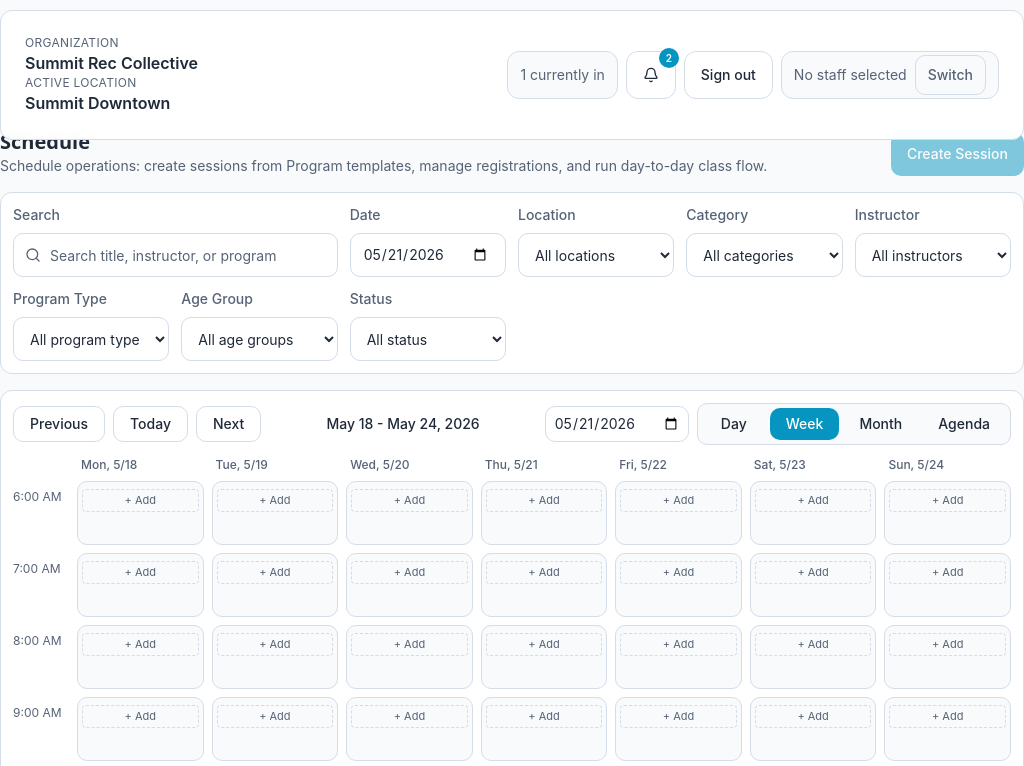
it: Calendar interactive workstation › prefills session instructor from program default and allows override
Click the button "Switch" at (950, 75), box [915,55,986,95]
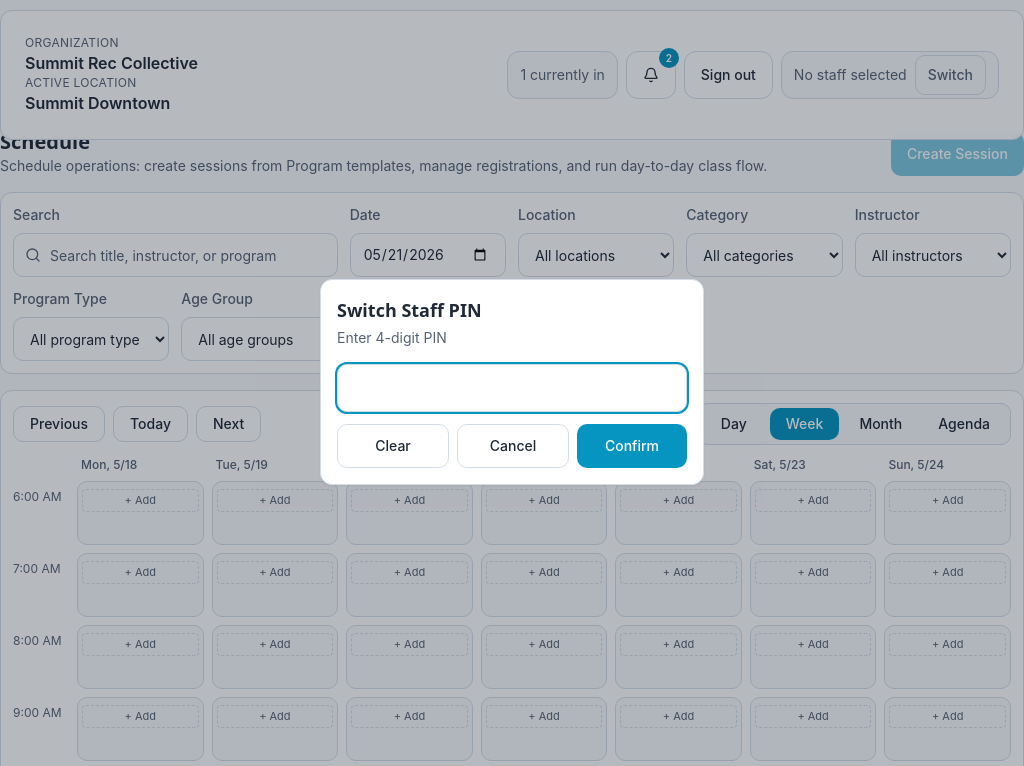
Type "2222" into the password field named "Staff PIN input" at (512, 388), box [337,364,687,412]
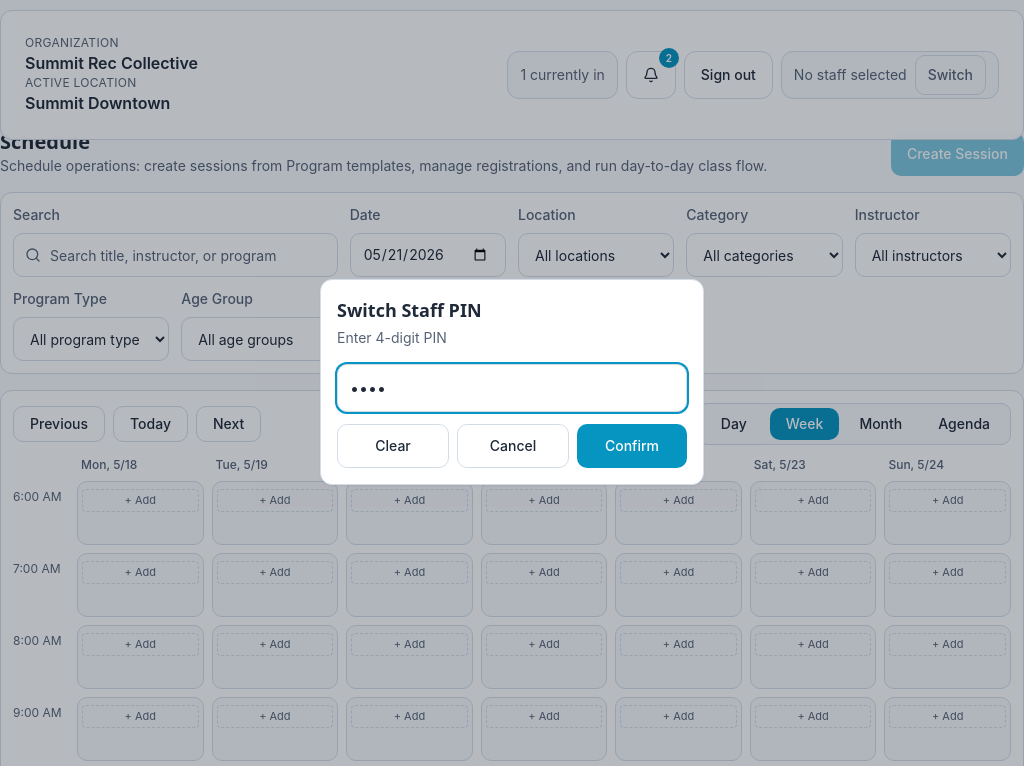
Click the button "Confirm" at (632, 446), box [577,424,687,468]
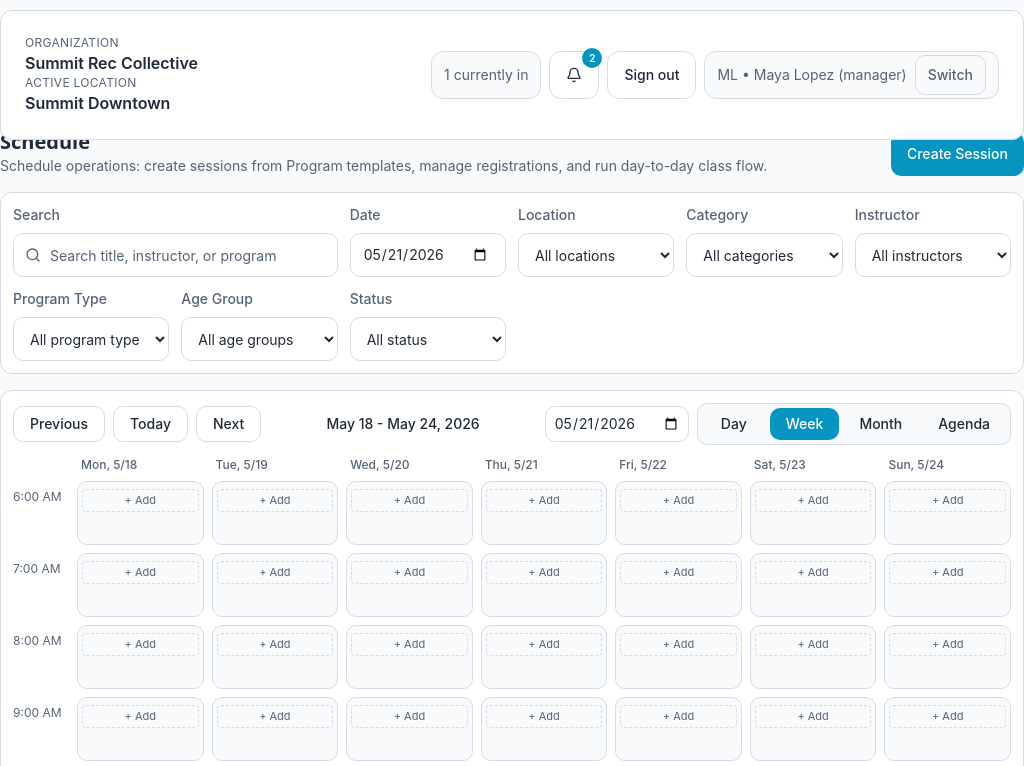
Click the button "Create Session" at (957, 154), box [891,132,1023,176]
(page scrolled)
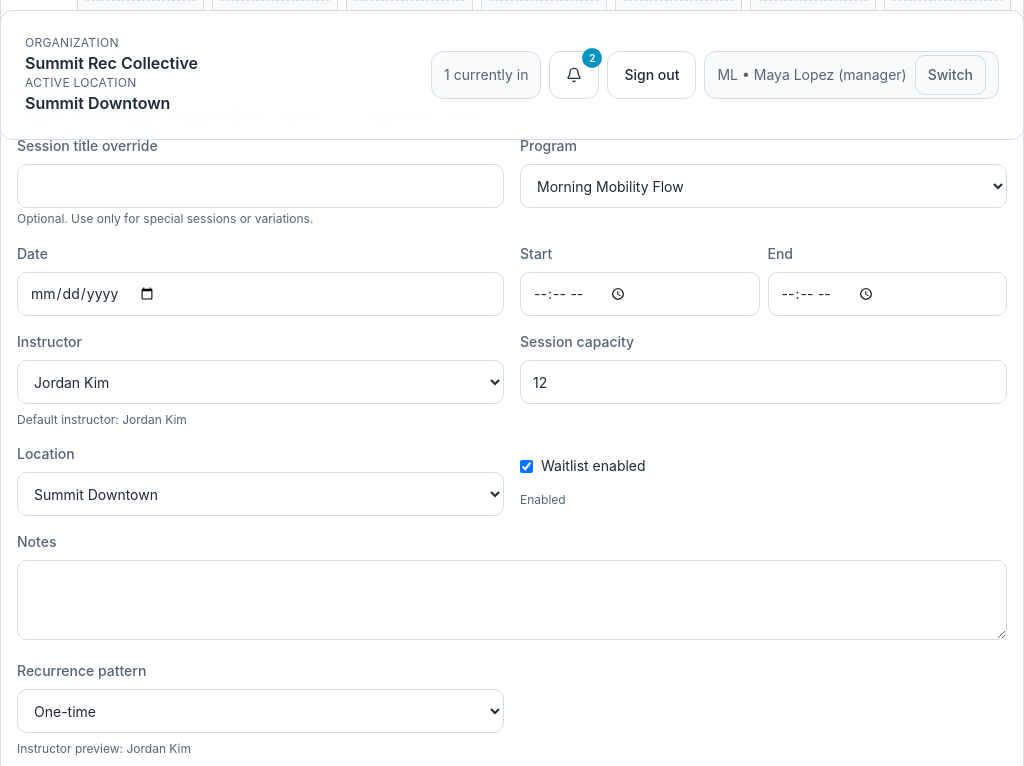
Expected: the dropdown named "Session instructor" shows "Jordan Kim"
Select "Maya Lopez" in the dropdown named "Session instructor" at (260, 382), box [17,360,504,404]
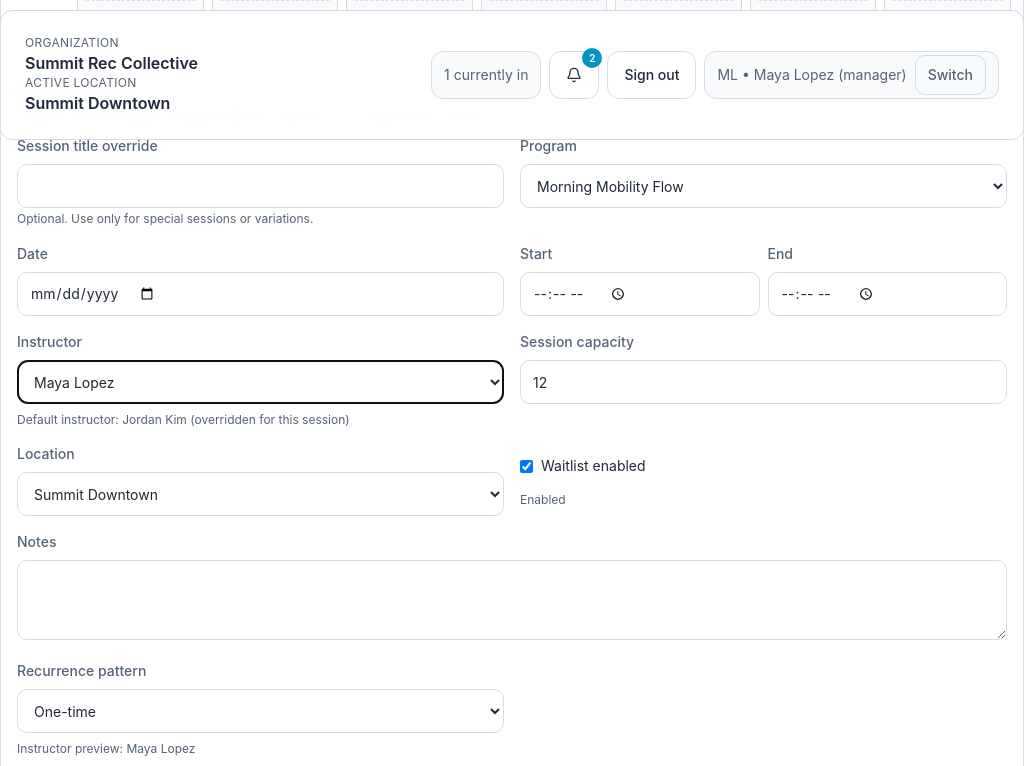
Expected: the text "Default instructor: Jordan Kim (overridden for this session)" is shown, [17,412,350,427]
